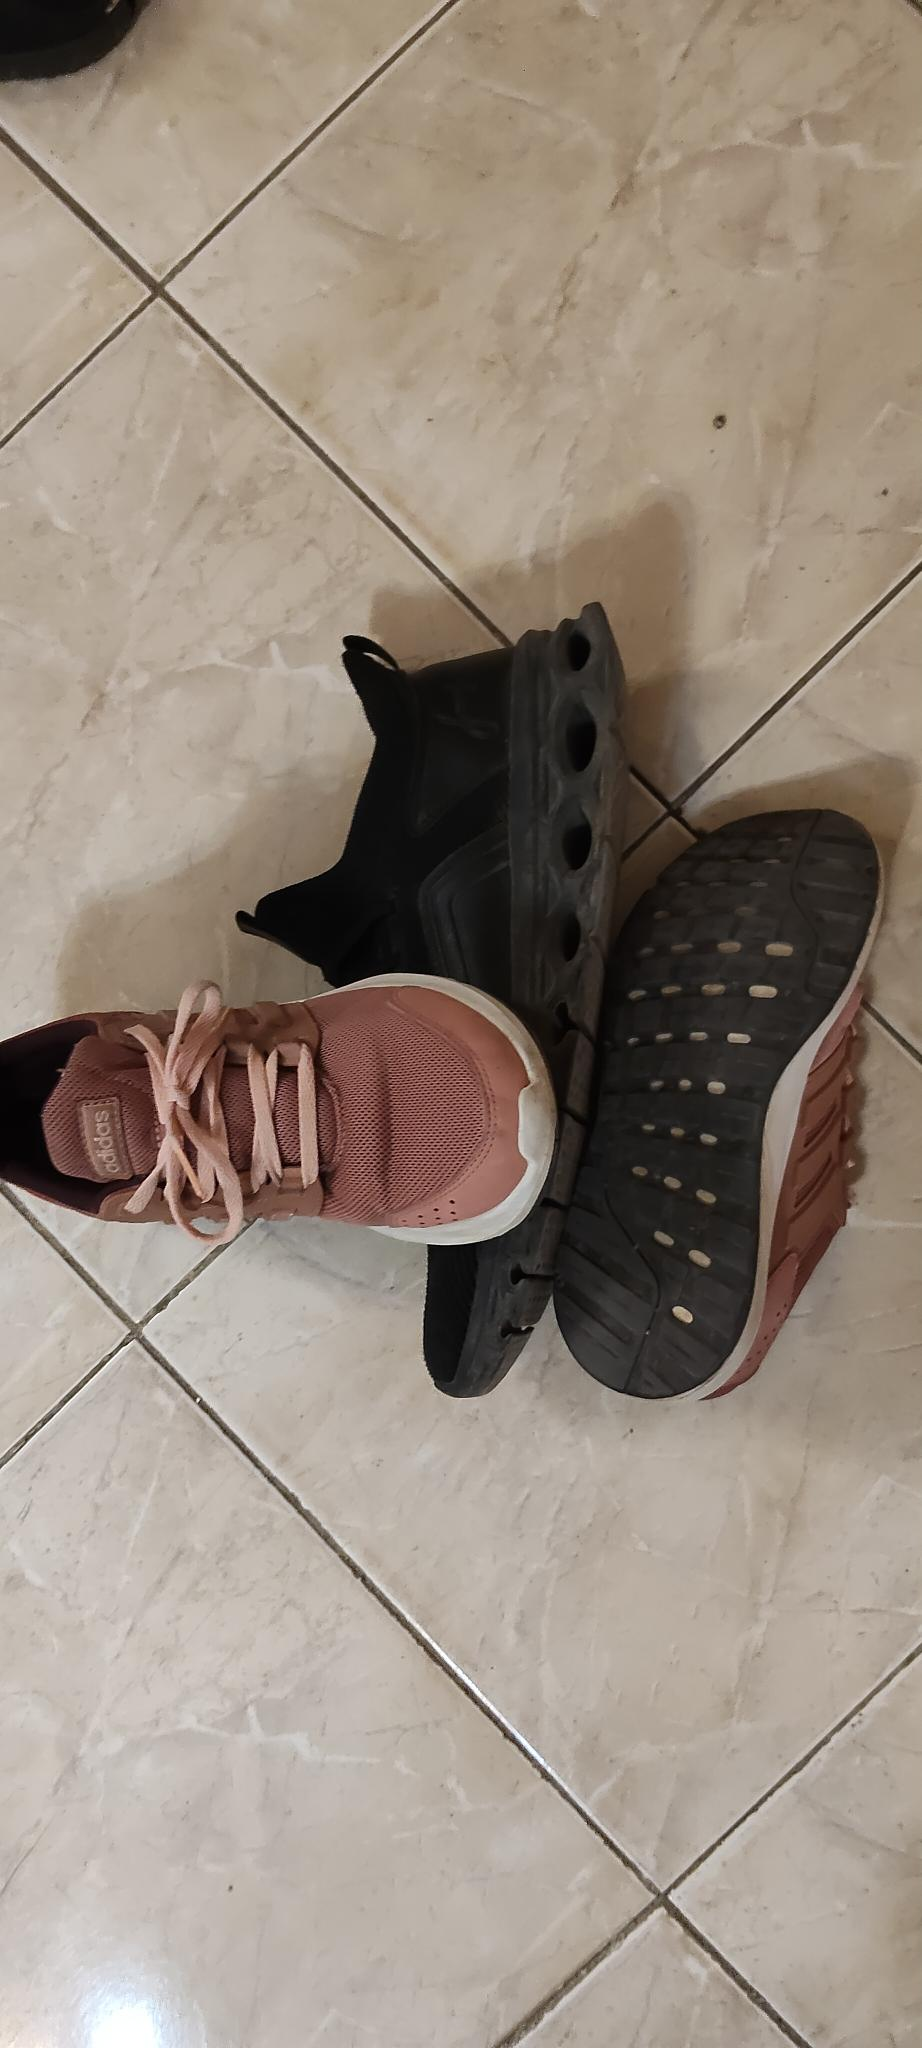Shoes: (230, 603, 630, 1396), (553, 807, 887, 1404), (0, 971, 559, 1247)
